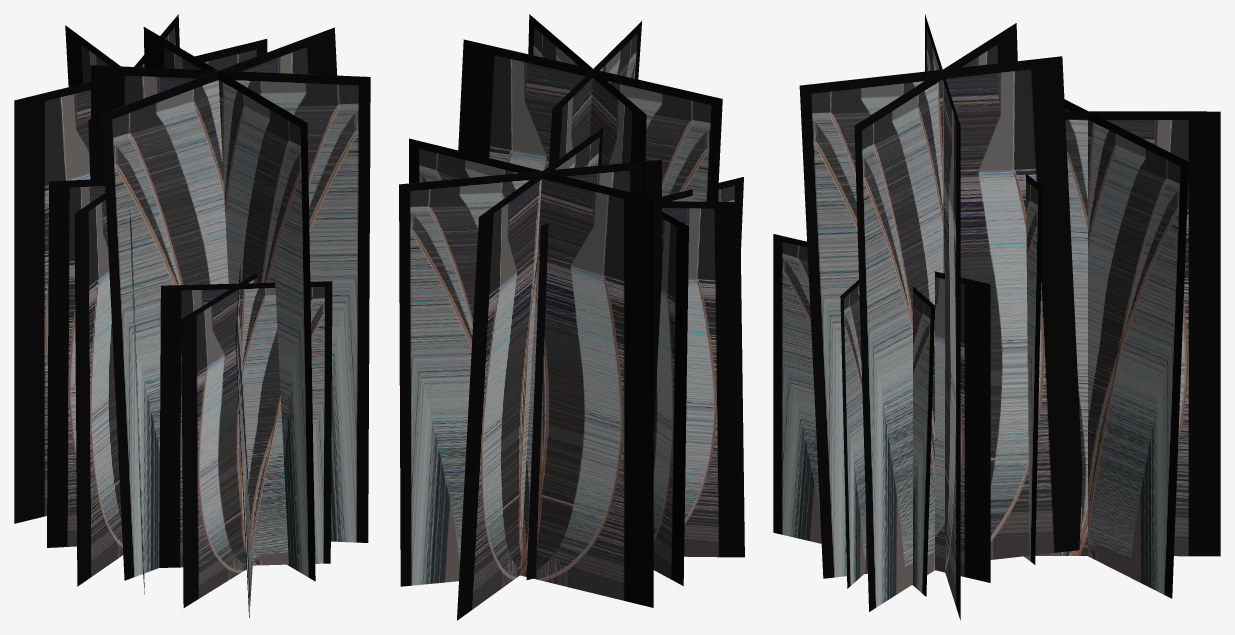
Rendered from needlegrass.fbx.
3 renders of one model, left to right at view 1: azimuth 30°, elevation 25°; view 2: azimuth 150°, elevation 25°; view 3: azimuth 270°, elevation 25°, orthographic. The views are drawn at different scales.
Visible parts, largest first — view 1: needlegrass; view 2: needlegrass; view 3: needlegrass.
Part boxes in pixels (x1,y1,x2,y2): needlegrass: (14,14,370,617); needlegrass: (399,14,744,620); needlegrass: (773,14,1220,620).
Size of the model in its own units: 28 by 43.74 by 35.67.
Materials: 1 (1 with a texture image).
